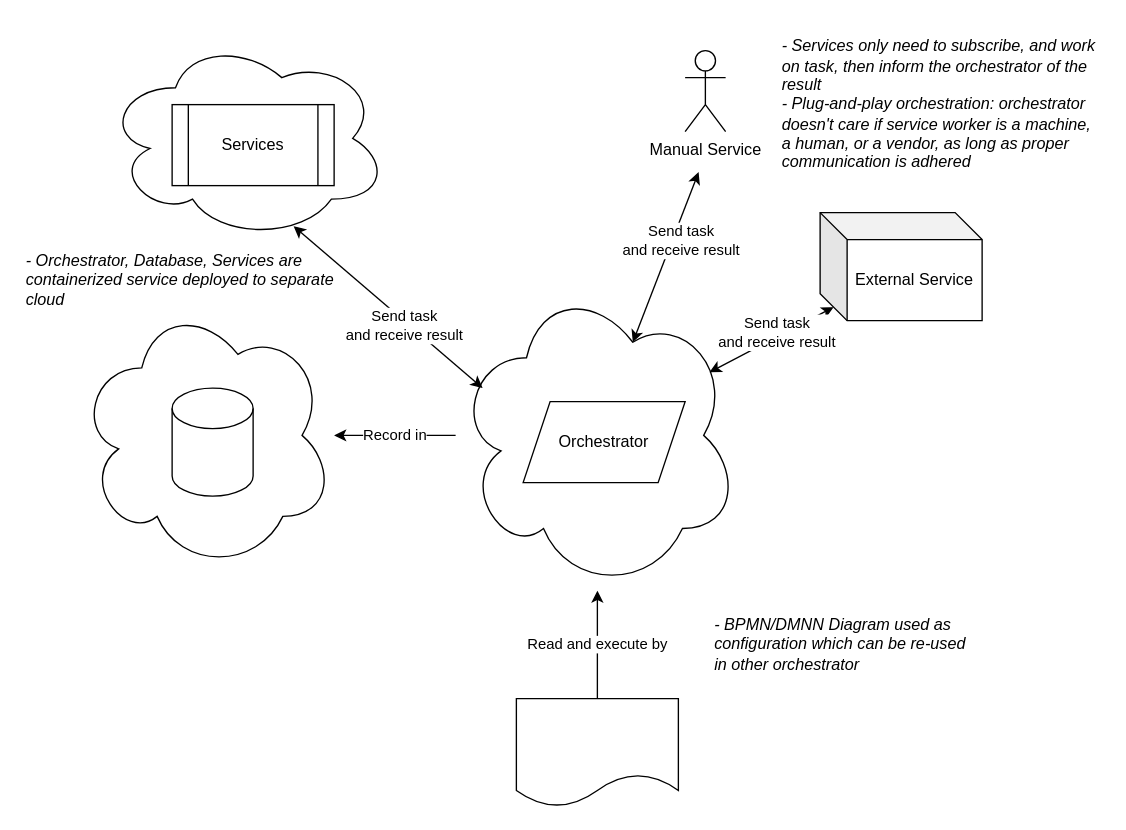
The diagram is 1126 pixels wide and 830 high, and some of its shapes have lost their labels. Each missing label, with the box of its shape:
BPMN/DMN Diagram: (515, 697, 678, 807)
Database: (171, 387, 253, 496)
